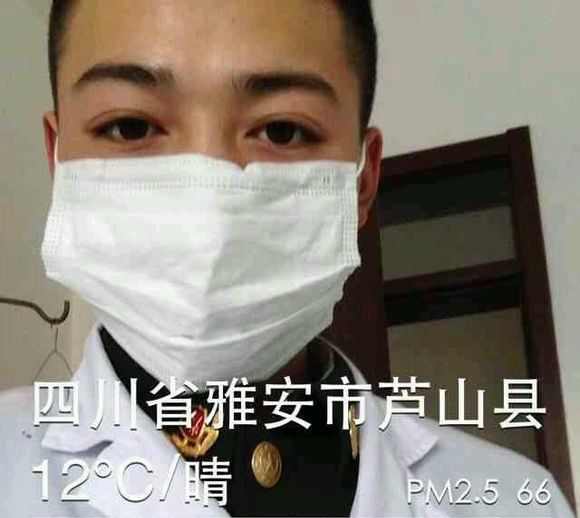face_mask: (50, 0, 362, 360)
